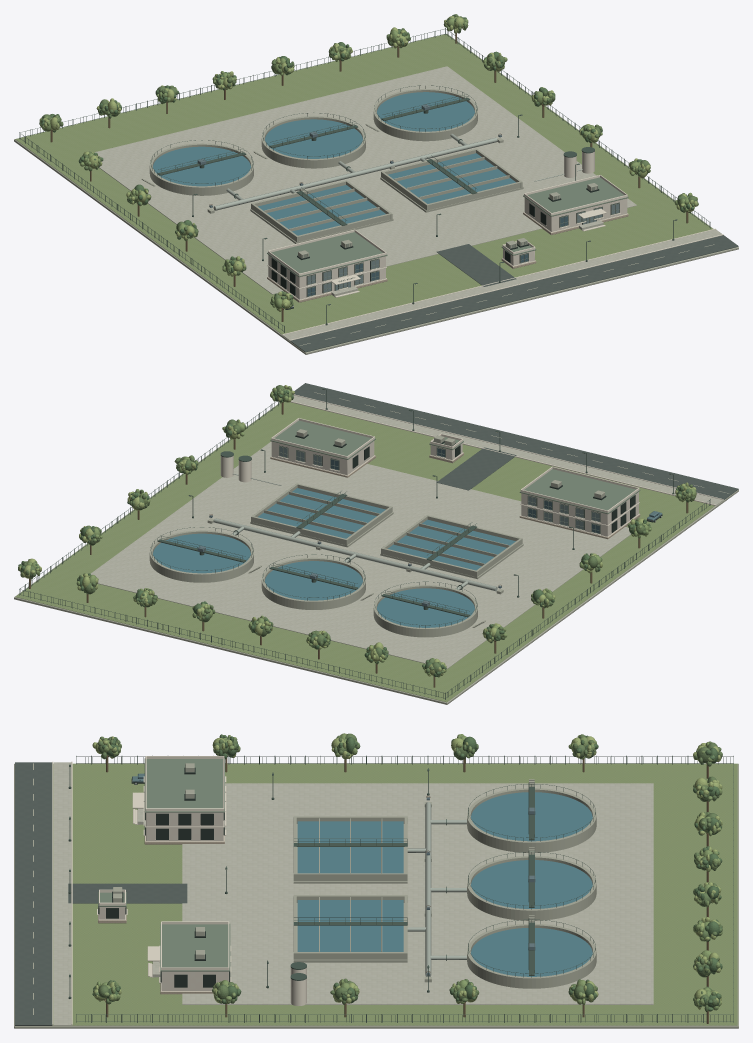
The model's file is waterworks-intact.glb.
The picture shows the model from 3 angles, top to bottom: view 1: azimuth 30°, elevation 25°; view 2: azimuth 150°, elevation 25°; view 3: azimuth 270°, elevation 25°; orthographic projection. The views are drawn at different scales.
Visible parts, largest first — view 1: 材质批次_grass, 材质批次_plaza_paving, 材质批次_poi_service_concrete, 材质批次_waterworks_water, 材质批次_asphalt, 材质批次_street_metal, 材质批次_warm_cream_trim, 材质批次_sage_metal_roof, 材质批次_limestone, 材质批次_leaf_2, 材质批次_leaf_0, 材质批次_leaf_1 (+7 smaller); view 2: 材质批次_plaza_paving, 材质批次_grass, 材质批次_poi_service_concrete, 材质批次_waterworks_water, 材质批次_asphalt, 材质批次_street_metal, 材质批次_sage_metal_roof, 材质批次_warm_cream_trim, 材质批次_limestone, 材质批次_leaf_1, 材质批次_leaf_2, 材质批次_leaf_0 (+7 smaller); view 3: 材质批次_plaza_paving, 材质批次_grass, 材质批次_waterworks_water, 材质批次_poi_service_concrete, 材质批次_asphalt, 材质批次_street_metal, 材质批次_sage_metal_roof, 材质批次_warm_cream_trim, 材质批次_leaf_1, 材质批次_leaf_3, 材质批次_leaf_2, 材质批次_limestone (+5 smaller).
Boxes of the visible parts, x1,y1,x2,y2 form: 材质批次_grass: (15, 34, 712, 334); 材质批次_plaza_paving: (95, 66, 722, 340); 材质批次_poi_service_concrete: (14, 35, 738, 354); 材质批次_waterworks_water: (153, 92, 515, 235); 材质批次_asphalt: (290, 235, 738, 352); 材质批次_street_metal: (19, 28, 710, 332); 材质批次_warm_cream_trim: (267, 151, 723, 340); 材质批次_sage_metal_roof: (267, 177, 628, 277); 材质批次_limestone: (268, 198, 627, 299); 材质批次_leaf_2: (39, 15, 698, 311); 材质批次_leaf_0: (40, 16, 697, 308); 材质批次_leaf_1: (40, 14, 698, 310); 材质批次_plaza_paving: (90, 395, 723, 668); 材质批次_grass: (15, 402, 714, 702); 材质批次_poi_service_concrete: (14, 403, 738, 704); 材质批次_waterworks_water: (153, 488, 515, 627); 材质批次_asphalt: (294, 383, 738, 499); 材质批次_street_metal: (19, 388, 710, 699); 材质批次_sage_metal_roof: (270, 420, 640, 514); 材质批次_warm_cream_trim: (220, 394, 723, 537); 材质批次_limestone: (271, 441, 638, 536); 材质批次_leaf_1: (18, 385, 694, 676); 材质批次_leaf_2: (19, 385, 696, 676); 材质批次_leaf_0: (20, 386, 696, 677); 材质批次_plaza_paving: (53, 762, 653, 1025); 材质批次_grass: (52, 763, 737, 1025); 材质批次_waterworks_water: (297, 792, 592, 976); 材质批次_poi_service_concrete: (14, 763, 738, 1028); 材质批次_asphalt: (15, 762, 187, 1025); 材质批次_street_metal: (68, 755, 733, 1022); 材质批次_sage_metal_roof: (98, 758, 230, 971); 材质批次_warm_cream_trim: (52, 756, 306, 1025); 材质批次_leaf_1: (93, 733, 722, 1011); 材质批次_leaf_3: (92, 734, 722, 1011); 材质批次_leaf_2: (92, 734, 722, 1009); 材质批次_limestone: (99, 813, 228, 990).
Bounding box in the file's own units: 122 × 9.05 × 140.
27 materials, 5 textured.
